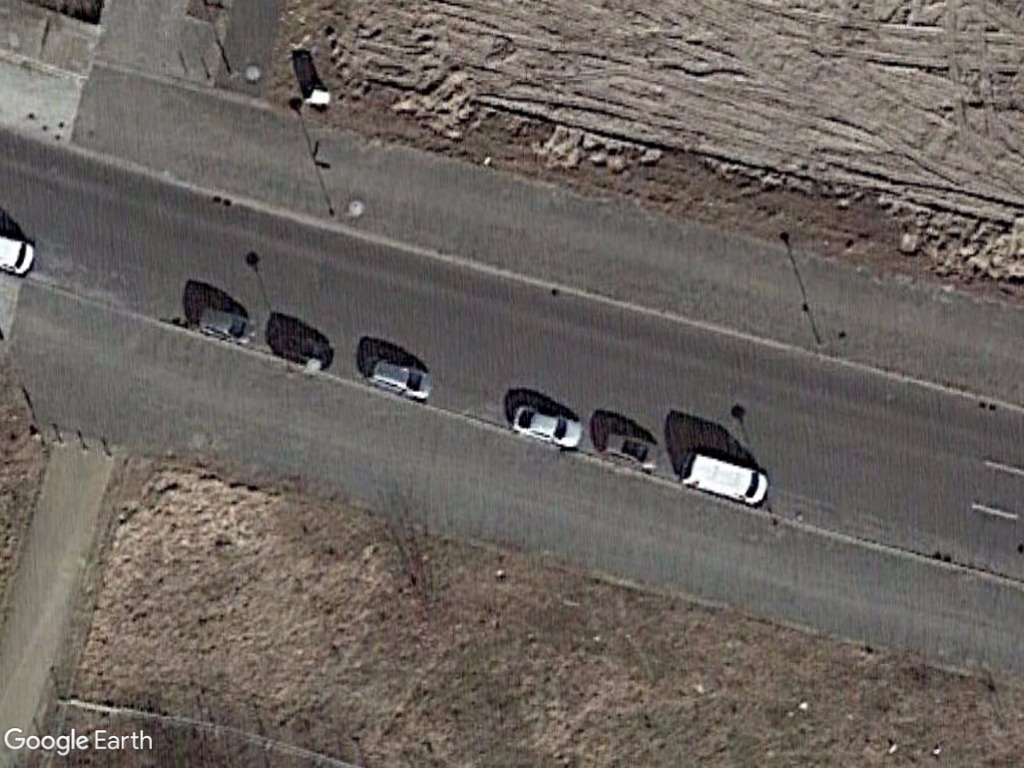car: (360, 349, 439, 405), (507, 399, 588, 453), (596, 424, 666, 475)
van: (676, 444, 772, 512)
